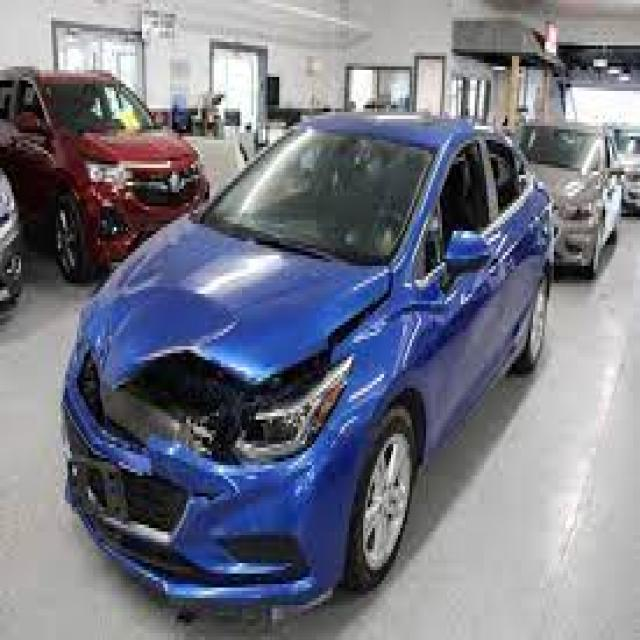moderate: (83, 286, 367, 494)
